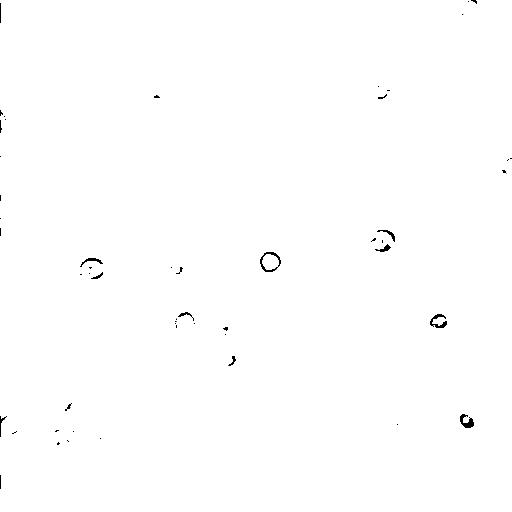micro-algae: (275, 444, 340, 509), (52, 277, 107, 329), (62, 411, 100, 447), (1, 201, 28, 246), (394, 283, 428, 314), (183, 223, 216, 251), (482, 43, 509, 75), (46, 385, 74, 415), (154, 382, 183, 409), (171, 308, 197, 338), (369, 227, 399, 253), (77, 256, 106, 282), (50, 431, 75, 459), (224, 316, 249, 344), (432, 95, 461, 119), (357, 358, 388, 380), (258, 249, 284, 275), (1, 411, 25, 439), (456, 1, 485, 21), (388, 418, 413, 441), (215, 347, 240, 369), (166, 0, 191, 21), (88, 441, 113, 462), (27, 302, 50, 323), (378, 331, 404, 349), (371, 80, 394, 100), (167, 257, 188, 277), (428, 312, 449, 331), (190, 0, 223, 12), (500, 153, 511, 180), (460, 413, 475, 430), (0, 109, 7, 132), (1, 2, 8, 20), (2, 473, 7, 489)
